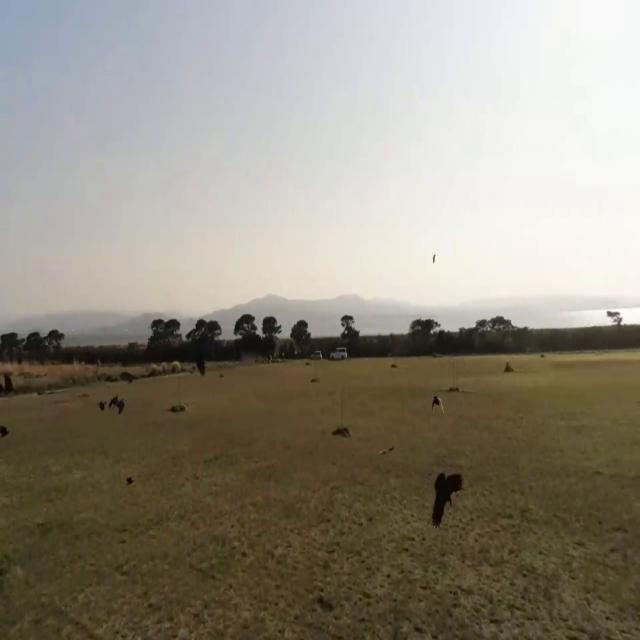bird: (432, 455, 454, 539), (432, 248, 436, 269)
